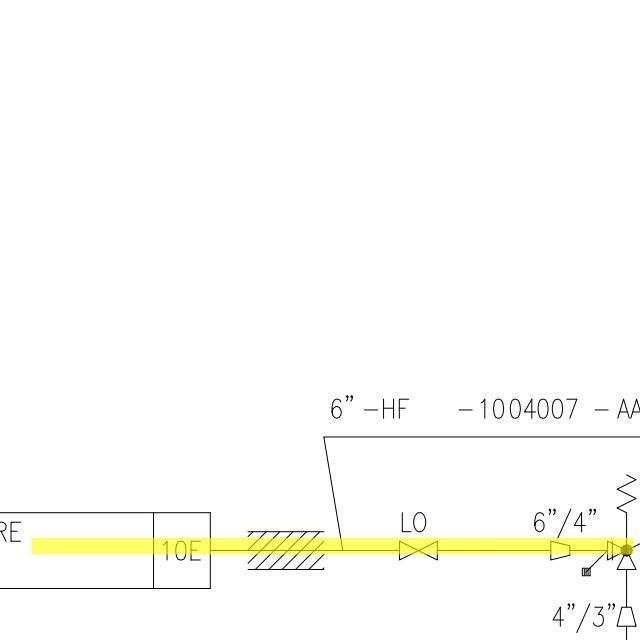GV: (393, 539, 441, 564)
RPV: (598, 466, 640, 584)
SP: (612, 602, 640, 631), (545, 538, 572, 563)
